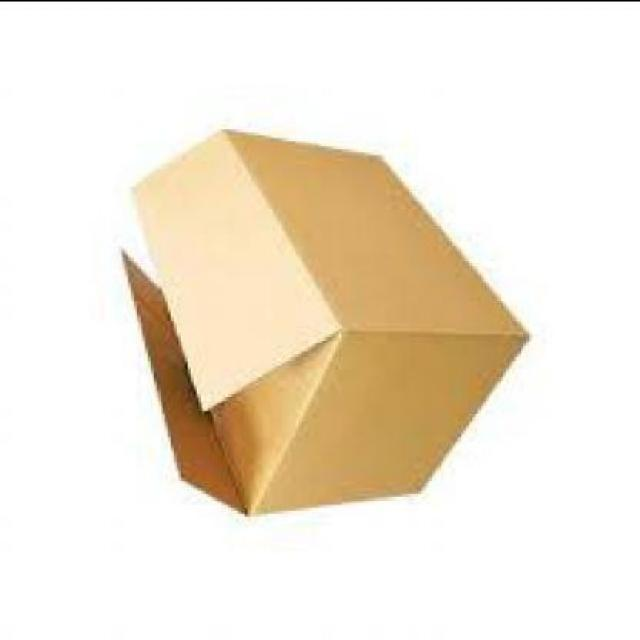box: (114, 125, 529, 519)
